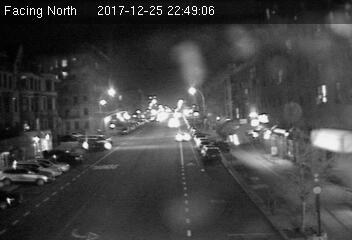car: (201, 145, 220, 162), (173, 129, 192, 142)
